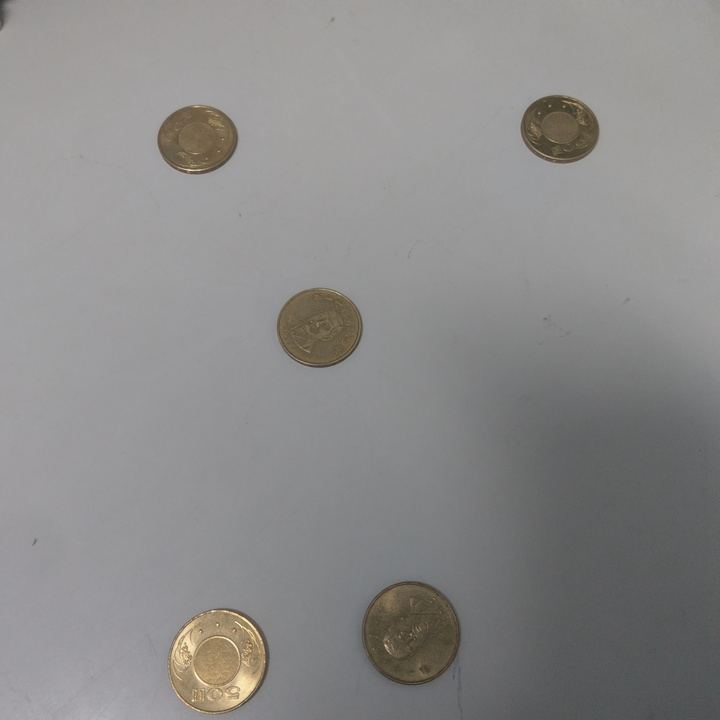50 dollar: (169, 605, 270, 715), (362, 582, 465, 687), (276, 288, 366, 370), (153, 101, 240, 178), (519, 95, 601, 165)
